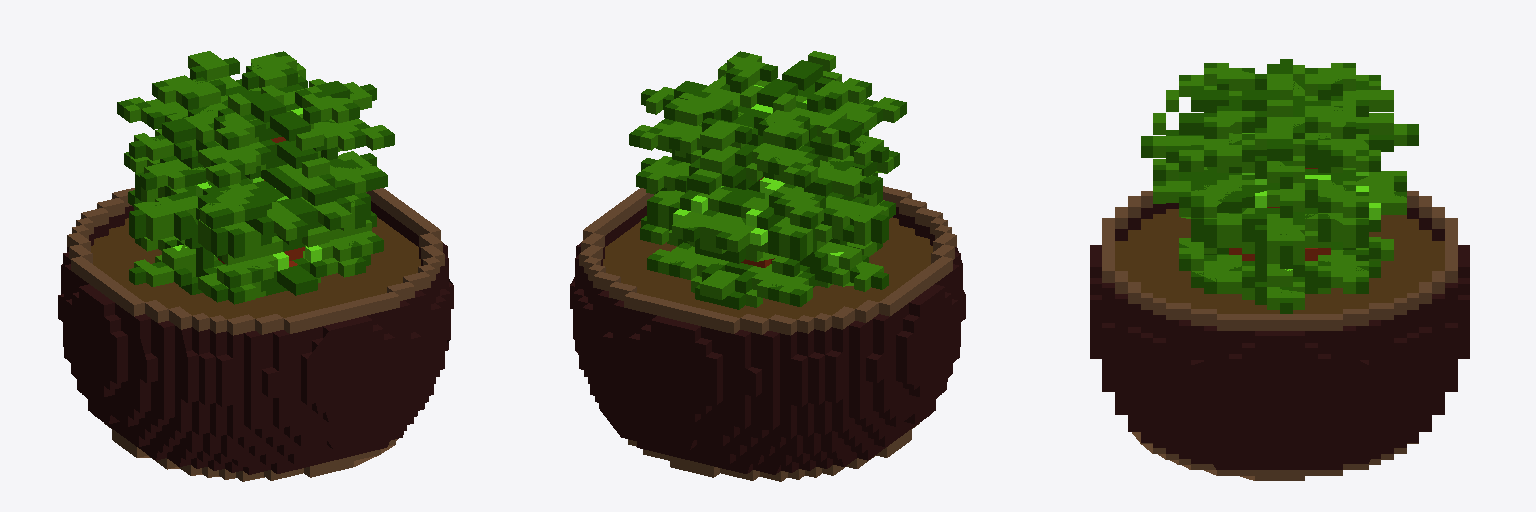
Rendered from FlowerPodSmall.obj.
The picture shows the model from 3 angles: view 1: azimuth 30°, elevation 25°; view 2: azimuth 150°, elevation 25°; view 3: azimuth 270°, elevation 25°; orthographic projection.
Visible parts, largest first — view 1: FlowerPodSmall; view 2: FlowerPodSmall; view 3: FlowerPodSmall.
Boxes of the visible parts, box(x1,y1,x2,y2) form: FlowerPodSmall: box(58, 51, 453, 481); FlowerPodSmall: box(570, 51, 965, 481); FlowerPodSmall: box(1090, 59, 1469, 480).
Bounding box in the file's own units: 1.88 × 1.75 × 1.88.